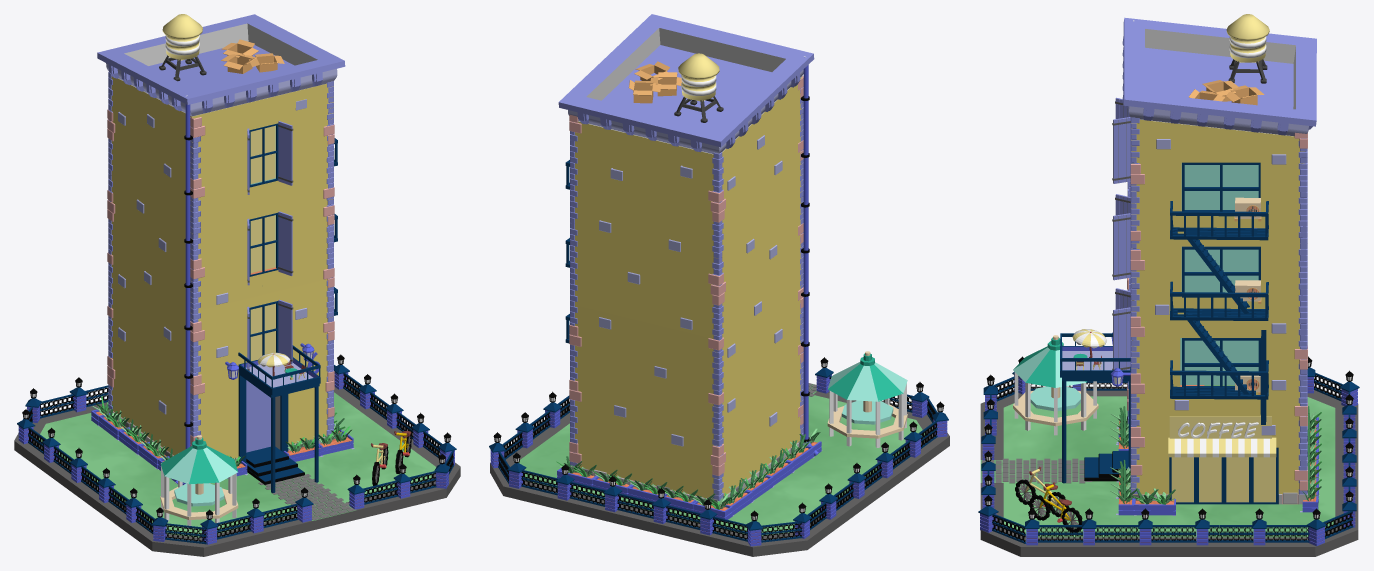
The model's file is house_lv4_1.fbx.
The picture shows the model from 3 angles, left to right: view 1: azimuth 30°, elevation 25°; view 2: azimuth 150°, elevation 25°; view 3: azimuth 270°, elevation 25°; orthographic projection. The views are drawn at different scales.
Visible parts, largest first — view 1: housepergola_lv4_1, housebase_lv4_1, house_lv4_1.001; view 2: housepergola_lv4_1, housebase_lv4_1, house_lv4_1.001; view 3: housepergola_lv4_1, housebase_lv4_1, house_lv4_1.001, housebicycle_lv4_yellow, housebicycle_lv4_red_1, houseumbrella_lv4_1.
Part boxes in pixels (box(x1,y1,x2,y2)): housepergola_lv4_1: box(91, 14, 354, 492); housebase_lv4_1: box(14, 354, 460, 556); house_lv4_1.001: box(160, 435, 238, 529); housepergola_lv4_1: box(556, 14, 822, 521); housebase_lv4_1: box(489, 357, 949, 556); house_lv4_1.001: box(827, 351, 907, 447); housepergola_lv4_1: box(1060, 14, 1321, 515); housebase_lv4_1: box(978, 356, 1359, 556); house_lv4_1.001: box(1013, 335, 1098, 435); housebicycle_lv4_yellow: box(1029, 482, 1082, 532); housebicycle_lv4_red_1: box(1015, 466, 1068, 517); houseumbrella_lv4_1: box(1072, 329, 1106, 357).
Bounding box in the file's own units: 3484 × 4565 × 3497.
